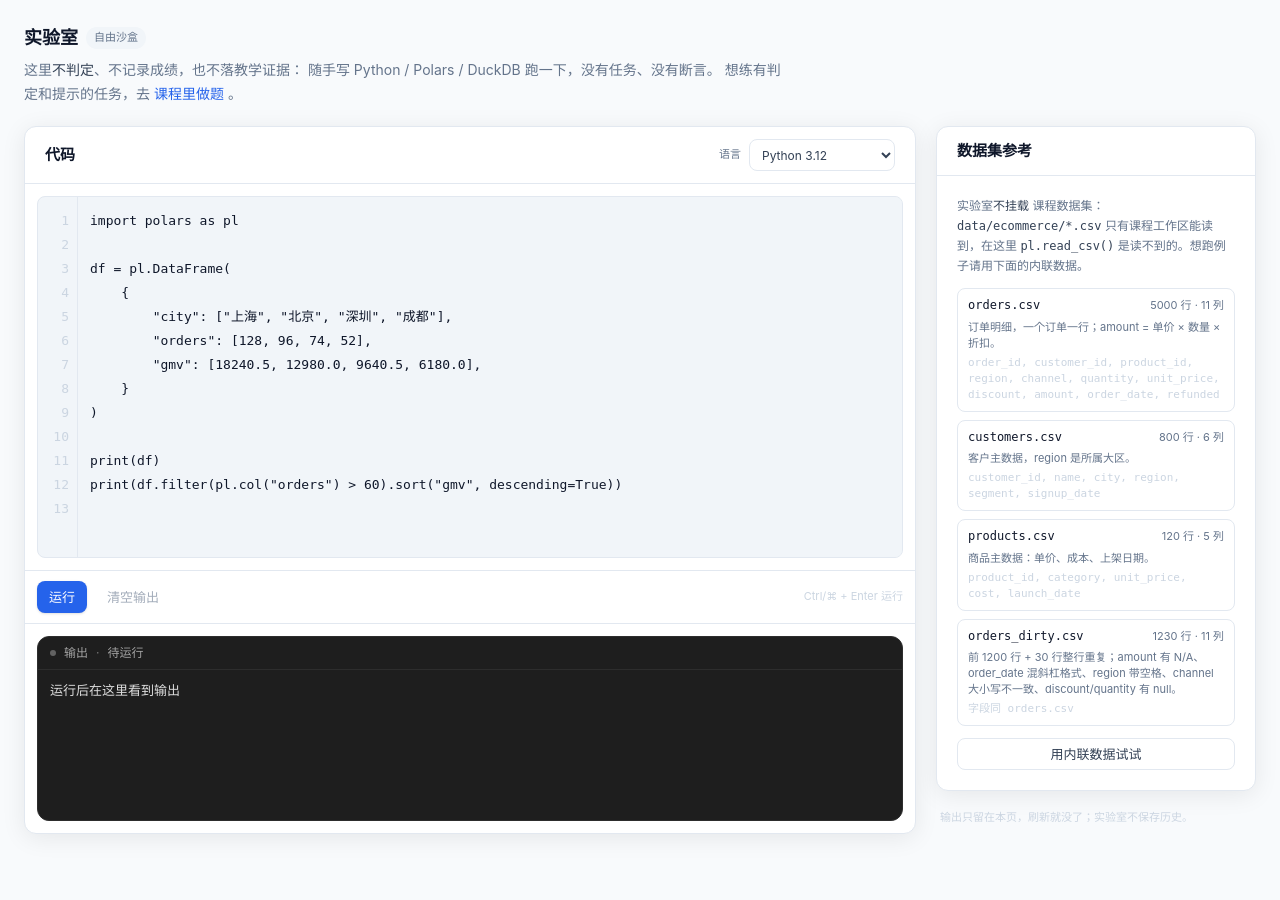
Lab 实验室页面 › 503（HTTP 错误分支）显示服务不可用提示，不崩
Click the button "运行". click: [62, 597]
box: left=37, top=581, right=87, bottom=613
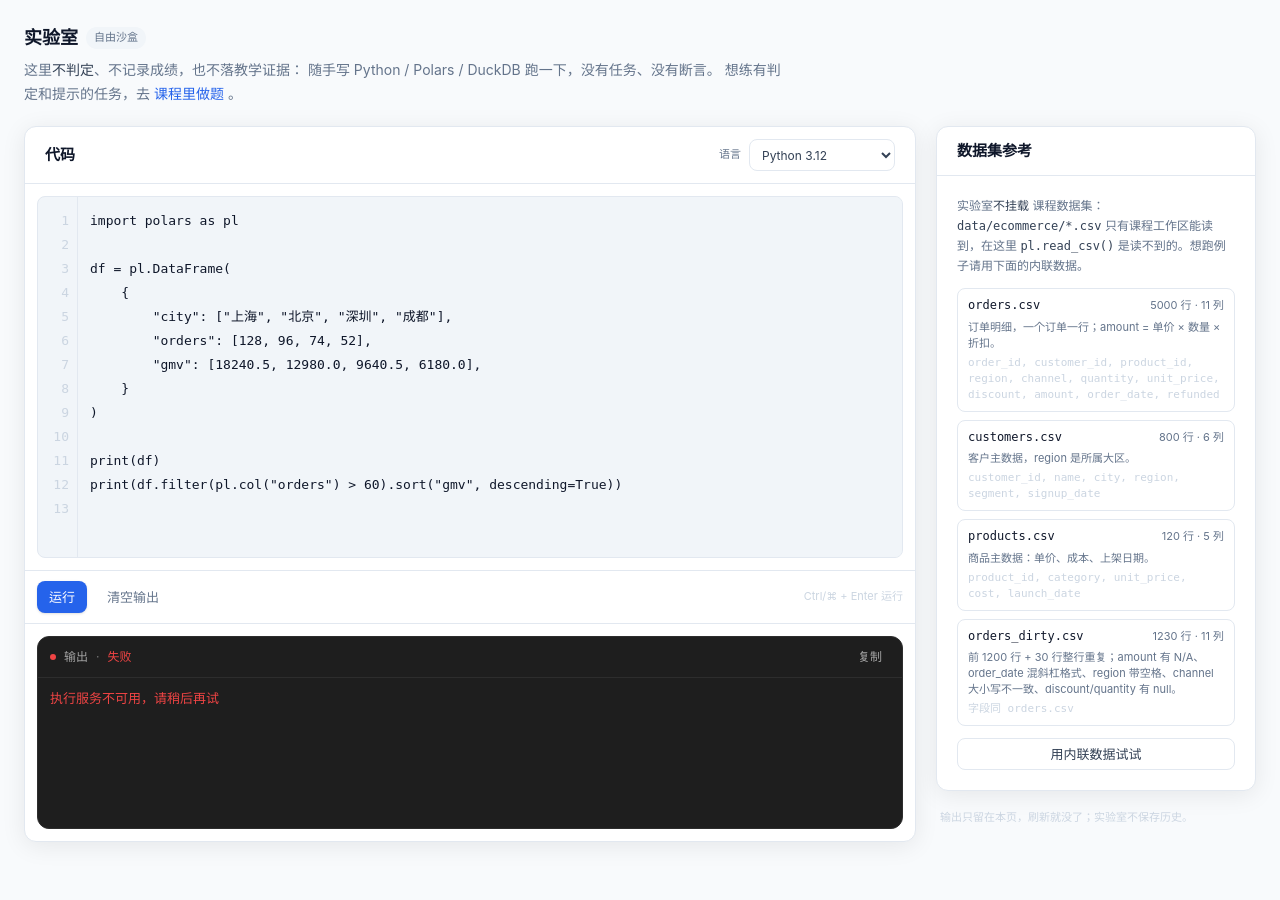
Result: the text "执行服务不可用，请稍后再试" is shown at left=50, top=691, right=219, bottom=706
Result: the text "失败" is shown at left=108, top=649, right=132, bottom=665
